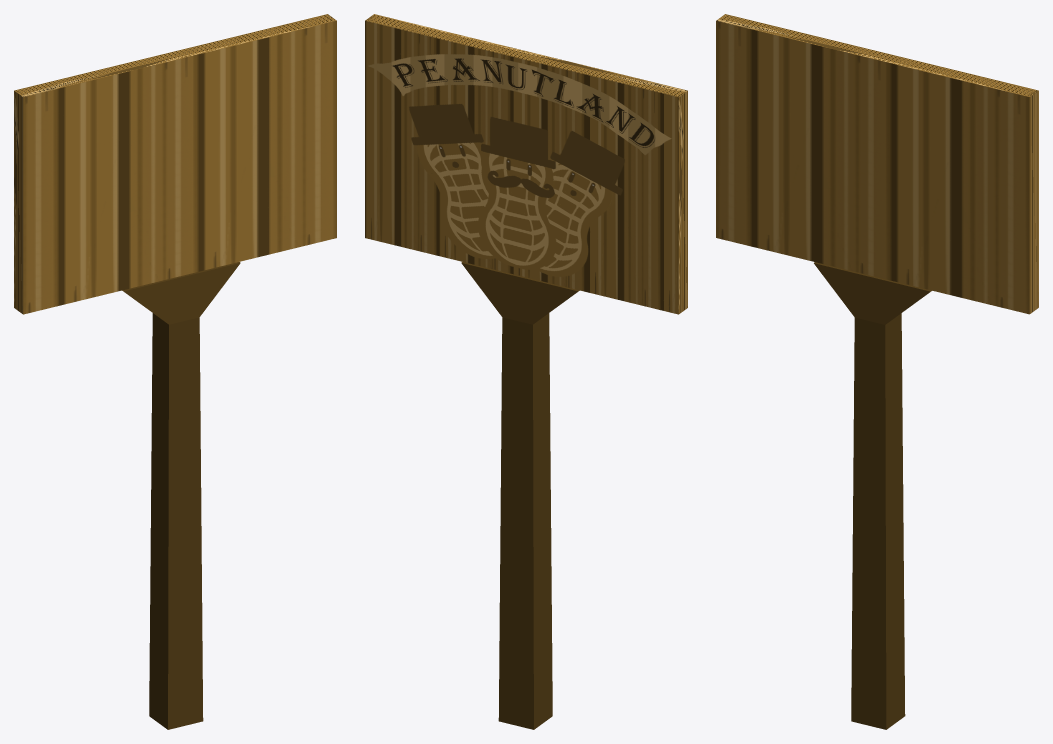
Rendered from paal1.fbx.
3 renders of one model, left to right at view 1: azimuth 30°, elevation 25°; view 2: azimuth 150°, elevation 25°; view 3: azimuth 330°, elevation 25°, orthographic.
Parts seen in each view (by area): view 1: paal1; view 2: paal1; view 3: paal1.
Boxes of the visible parts, left/top/right/bottom form: paal1: left=14, top=14, right=336, bottom=729; paal1: left=365, top=14, right=687, bottom=729; paal1: left=716, top=14, right=1038, bottom=729.
Size of the model in its own units: 0.0131 by 0.0264 by 0.00136.
Materials: 1 (1 with a texture image).
